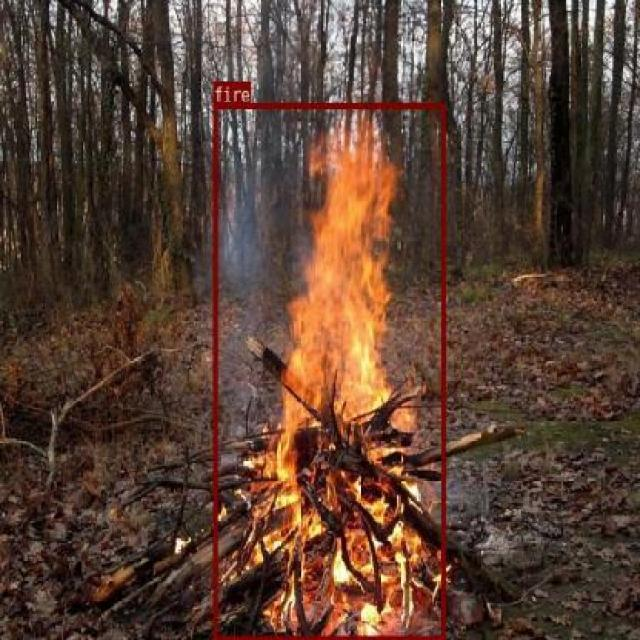Fire: (212, 101, 444, 640)
